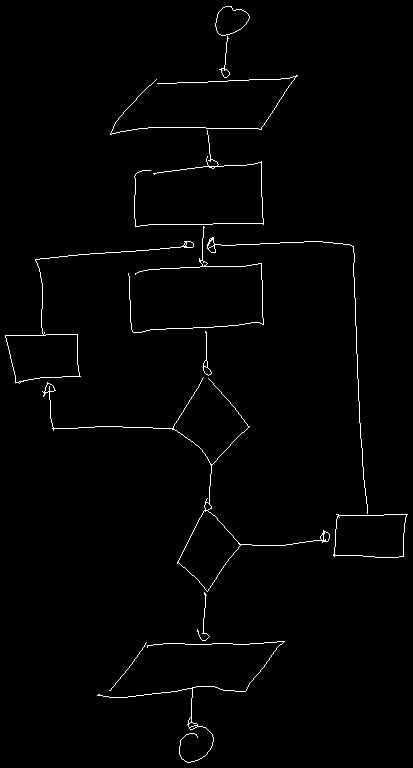arrow: (207, 237, 367, 513), (35, 241, 193, 334), (42, 382, 173, 430), (239, 530, 329, 545), (197, 592, 209, 640), (206, 130, 218, 168), (219, 36, 229, 77), (187, 688, 197, 729), (204, 464, 212, 510), (203, 331, 211, 375), (199, 226, 207, 266)
connection: (179, 725, 213, 762), (215, 6, 249, 35)
data: (110, 75, 297, 134), (97, 641, 284, 697)
decision: (172, 377, 249, 465), (177, 510, 240, 591)
process: (128, 263, 263, 332), (134, 161, 263, 226), (5, 334, 80, 383), (333, 514, 407, 557)
